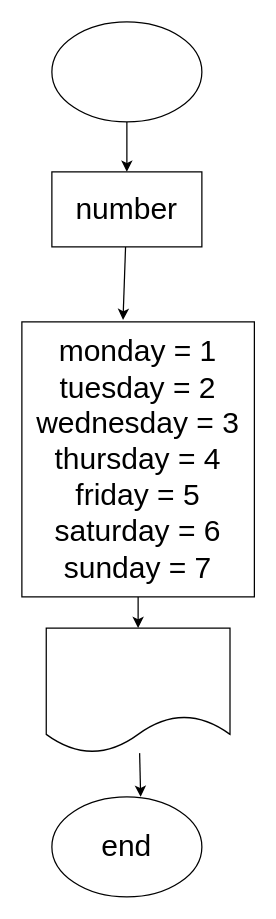
This 276x919 diagram has some shape labels left out. The centre of each missing label's shape, as x and y in pixels:
day of the week: the point at 137,690
start: the point at 126,71
